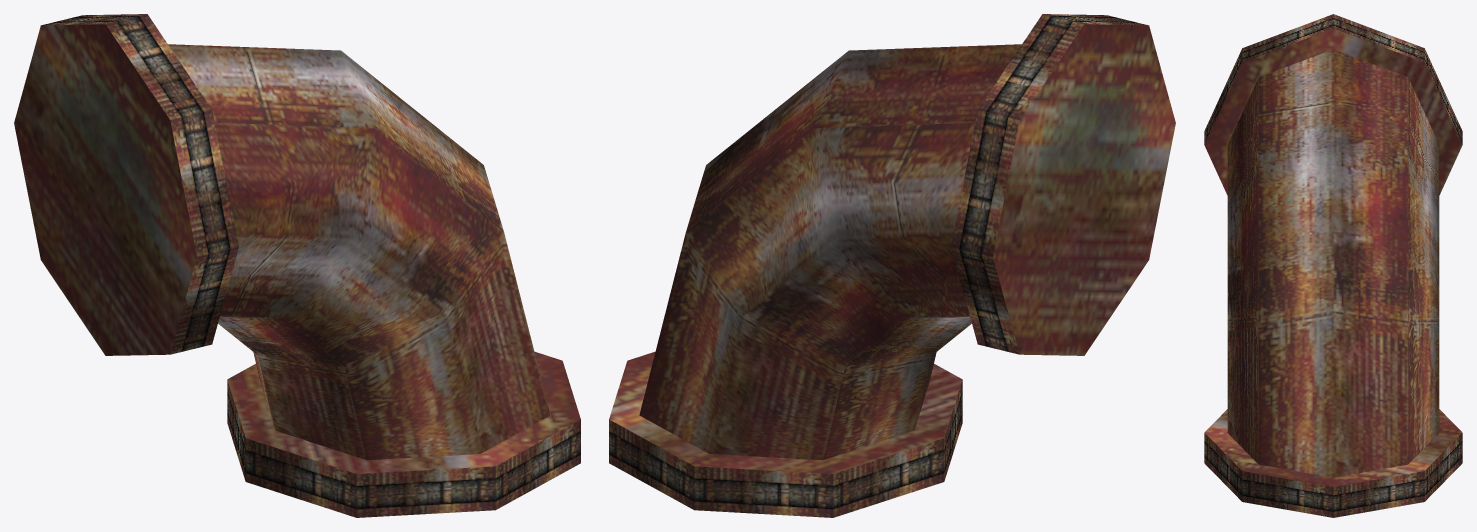
Rendered from corner_rusty_small_4m.fbx.
3 views of the same model, side by side, from view 1: azimuth 30°, elevation 25°; view 2: azimuth 150°, elevation 25°; view 3: azimuth 270°, elevation 25° (orthographic). The views are drawn at different scales.
Parts seen in each view (by area): view 1: mesh_0; view 2: mesh_0; view 3: mesh_0.
Boxes of the visible parts, x1,y1,x2,y2 form: mesh_0: [14, 14, 580, 517]; mesh_0: [609, 14, 1175, 517]; mesh_0: [1204, 14, 1462, 517].
Bounding box in the file's own units: 43.93 × 45.18 × 30.47.
1 material, 1 textured.
